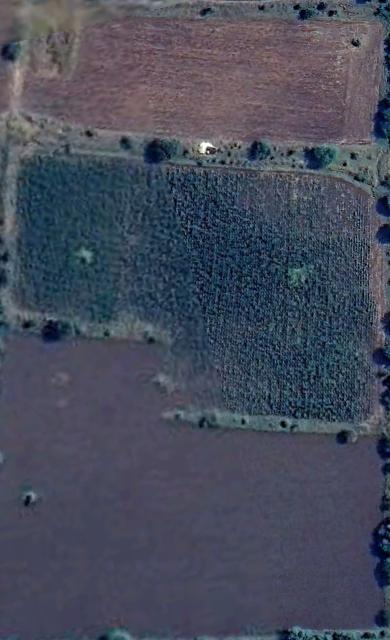EmptyFarms: (0, 325, 388, 637), (22, 19, 381, 149)
Farms: (20, 153, 378, 431)
